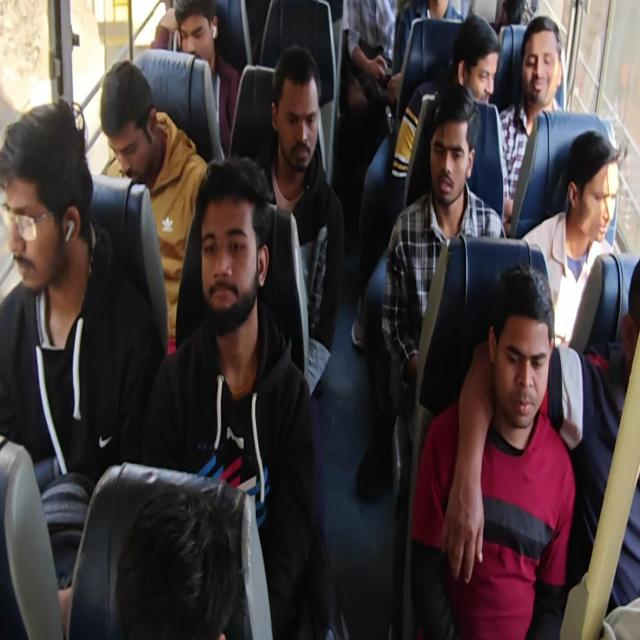person: (1, 2, 638, 638), (139, 155, 343, 638), (0, 98, 165, 634), (381, 82, 507, 636), (410, 262, 576, 638), (352, 11, 502, 348), (253, 44, 345, 396), (99, 59, 209, 353), (521, 128, 621, 351), (114, 480, 244, 639), (390, 13, 501, 180), (150, 0, 241, 159), (498, 15, 564, 227), (340, 0, 401, 118), (391, 0, 464, 77)
